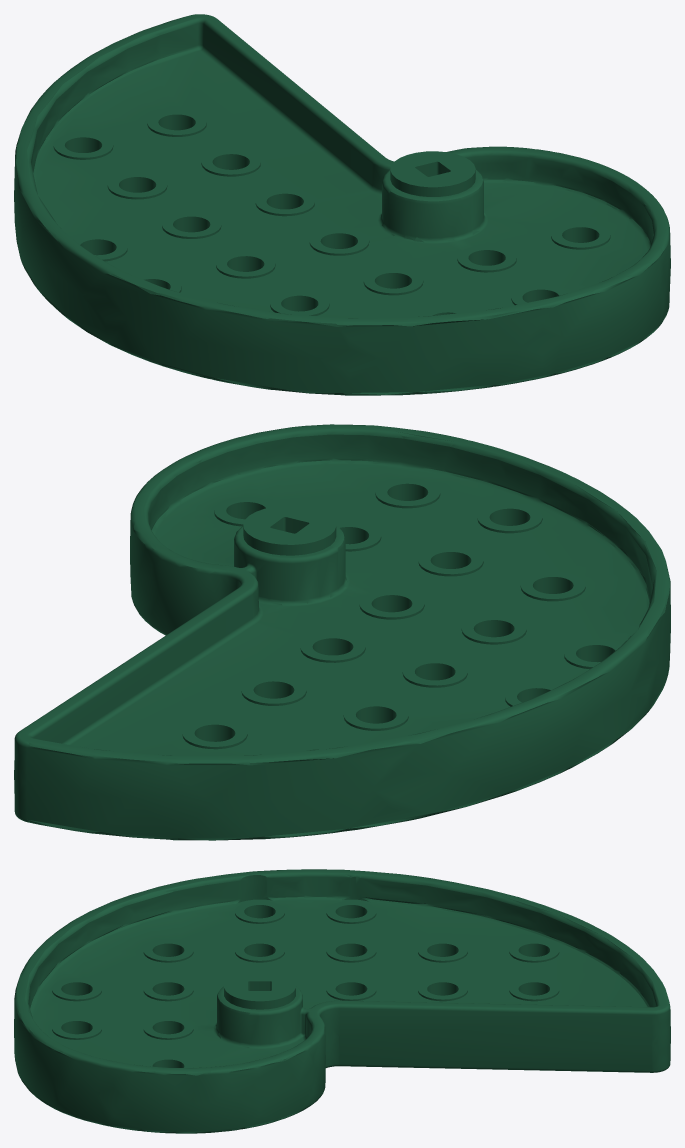
The model's file is drop-off-cam.glb.
The picture shows the model from 3 angles, top to bottom: view 1: azimuth 30°, elevation 25°; view 2: azimuth 150°, elevation 25°; view 3: azimuth 270°, elevation 25°; orthographic projection. The views are drawn at different scales.
Parts seen in each view (by area): view 1: 276-2045-061 Rev1; view 2: 276-2045-061 Rev1; view 3: 276-2045-061 Rev1.
Part boxes in pixels (x1,y1,x2,y2): 276-2045-061 Rev1: (14, 14, 670, 395); 276-2045-061 Rev1: (14, 424, 670, 840); 276-2045-061 Rev1: (14, 869, 670, 1133).
Size of the model in its own units: 0.0673 by 0.0152 by 0.0912.
